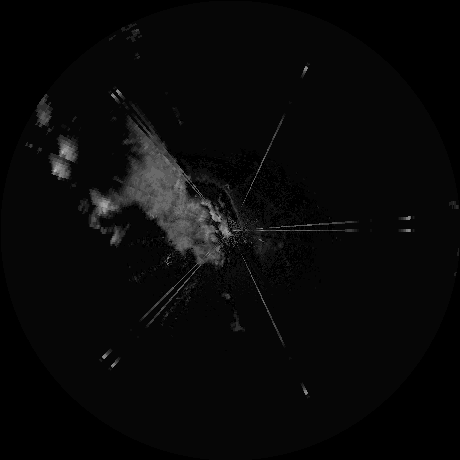frontgust: (226, 188, 242, 225)
